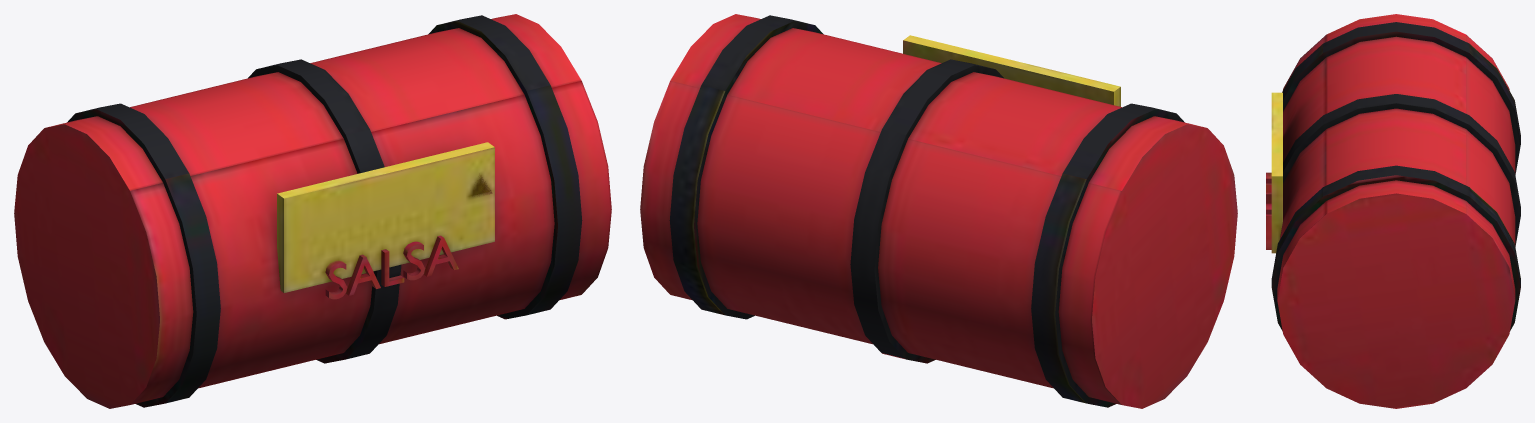
The model's file is barril.glb.
The picture shows the model from 3 angles, left to right: view 1: azimuth 30°, elevation 25°; view 2: azimuth 150°, elevation 25°; view 3: azimuth 270°, elevation 25°; orthographic projection. The views are drawn at different scales.
Parts seen in each view (by area): view 1: barril; view 2: barril; view 3: barril.
Boxes of the visible parts, x1,y1,x2,y2 form: barril: (14, 14, 611, 408); barril: (640, 14, 1237, 408); barril: (1266, 14, 1520, 408).
Size of the model in its own units: 1.5 by 0.88 by 0.9.
1 material, 1 textured.
